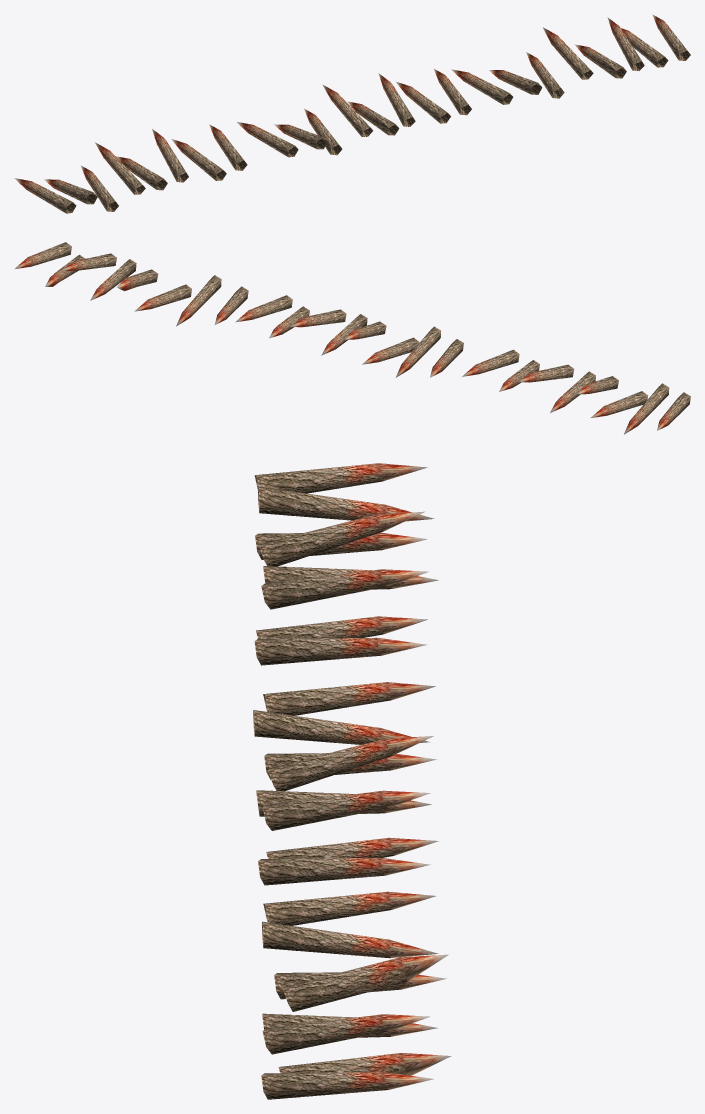
The picture shows the model from 3 angles, top to bottom: view 1: azimuth 30°, elevation 25°; view 2: azimuth 150°, elevation 25°; view 3: azimuth 270°, elevation 25°; orthographic projection. The views are drawn at different scales.
Parts seen in each view (by area): view 1: Cylinder13; view 2: Cylinder13; view 3: Cylinder13.
Part boxes in pixels (x1=…): Cylinder13: x1=14, y1=14, x2=690, y2=213; Cylinder13: x1=14, y1=242, x2=690, y2=434; Cylinder13: x1=253, y1=463, x2=451, y2=1099.
Bounding box in the file's own units: 332 × 17.14 × 44.38.
1 material, 1 textured.
